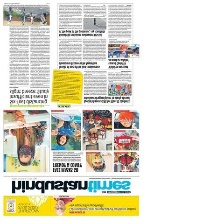news_paper: (1, 0, 142, 220)
